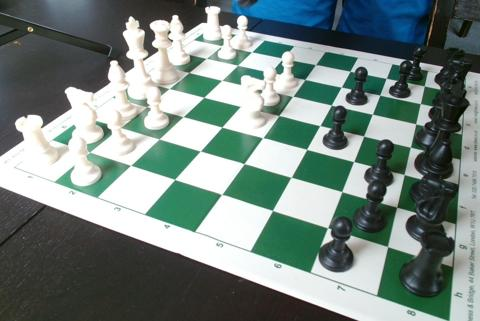xcorner: (378, 71, 392, 85), (333, 79, 347, 93), (261, 64, 275, 78), (228, 57, 242, 71), (197, 50, 211, 64), (323, 97, 337, 111), (284, 88, 298, 102), (312, 118, 326, 132), (195, 89, 209, 103), (160, 81, 174, 95), (346, 154, 360, 168), (213, 119, 227, 133), (138, 99, 152, 113), (389, 200, 403, 214), (334, 184, 348, 198), (236, 156, 250, 170), (265, 203, 279, 217), (214, 187, 228, 201), (167, 172, 181, 186), (83, 145, 97, 159), (274, 50, 287, 64), (242, 44, 256, 57), (212, 38, 226, 51), (413, 96, 426, 110), (296, 72, 310, 85), (408, 117, 422, 130), (364, 107, 378, 120), (248, 80, 261, 94), (213, 72, 226, 86), (403, 140, 416, 154), (356, 129, 370, 142), (232, 98, 245, 112), (255, 130, 268, 144), (175, 109, 188, 123), (284, 170, 297, 184), (192, 144, 206, 157), (151, 132, 165, 145), (380, 240, 394, 253), (320, 221, 334, 234), (124, 158, 137, 172), (417, 79, 430, 92), (342, 64, 355, 77), (307, 57, 320, 70), (372, 88, 385, 101), (180, 65, 193, 78), (271, 108, 284, 121), (397, 168, 410, 181), (299, 142, 312, 155), (113, 121, 126, 134)
